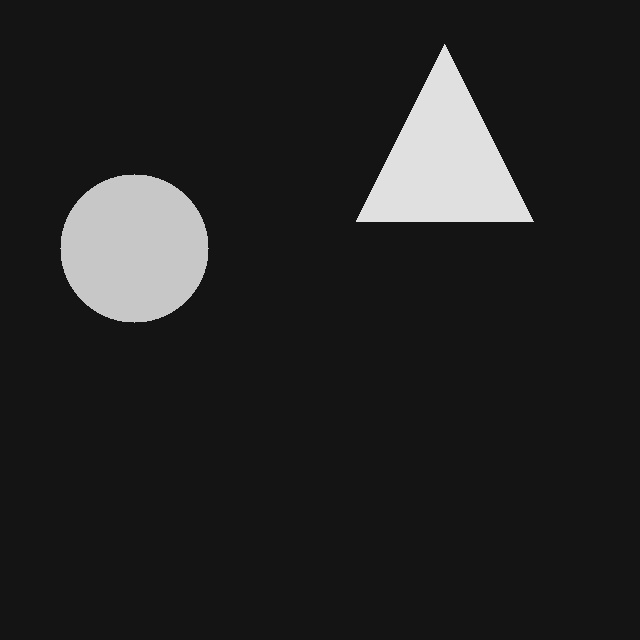circle: (60, 174, 208, 322)
triangle: (356, 44, 533, 221)
